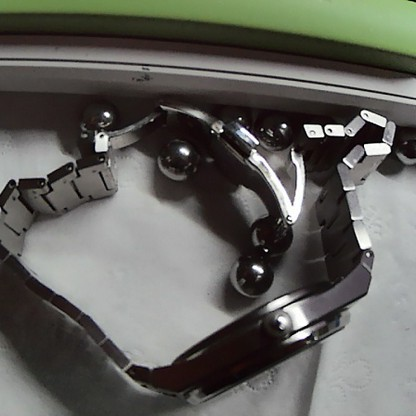ironball: (228, 251, 276, 302), (153, 136, 202, 182), (77, 97, 121, 145), (243, 213, 292, 252), (254, 111, 295, 147), (217, 101, 253, 138), (390, 127, 414, 171)
